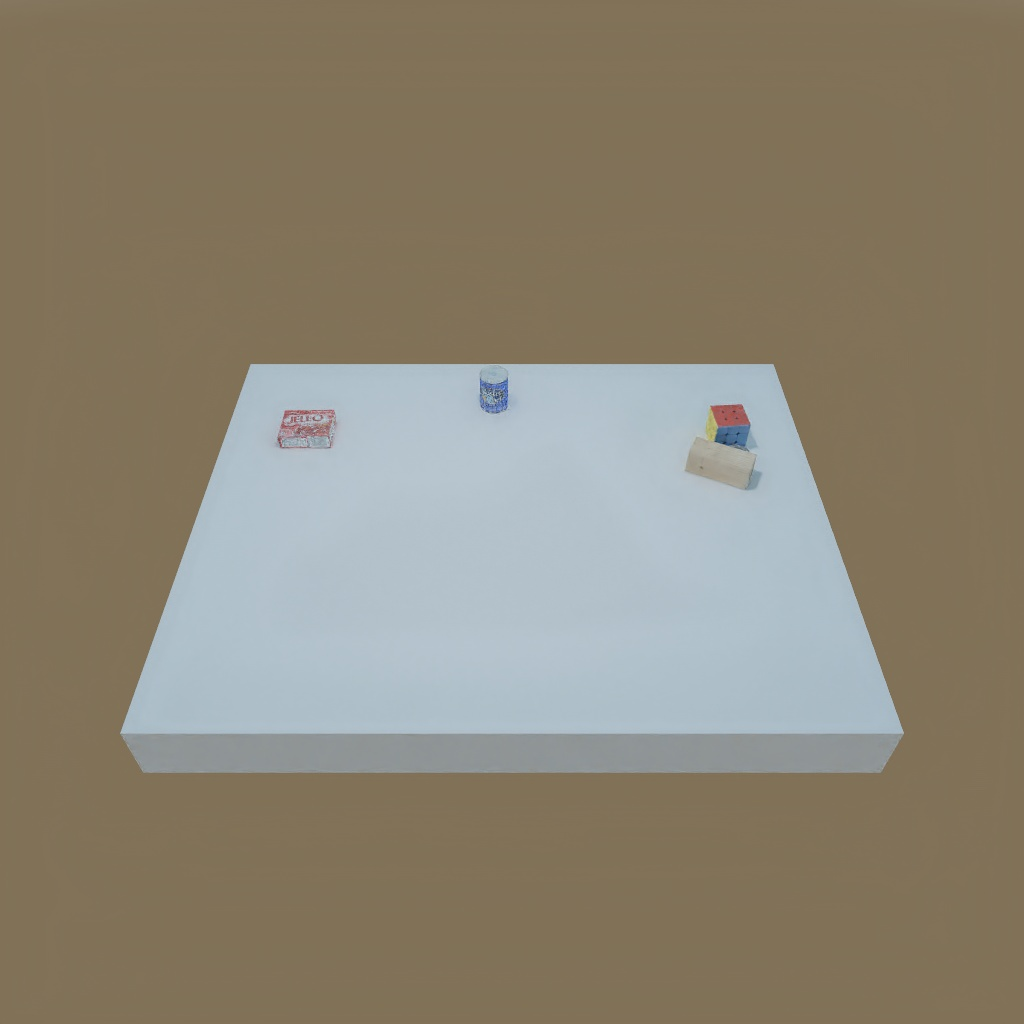gelatin_box: (274, 406, 341, 450)
master_chef_can: (472, 365, 513, 419)
rubiks_cube: (700, 403, 758, 450)
wood_block: (683, 436, 755, 490)
